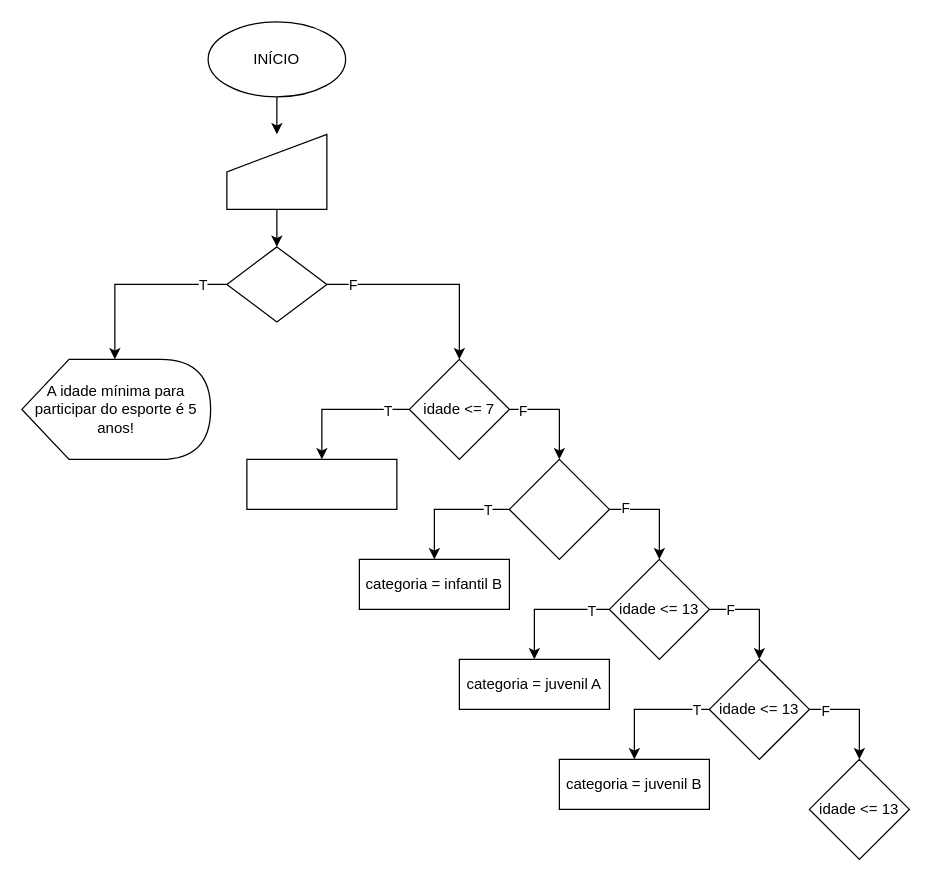
This 931x881 diagram has some shape labels left out. The shapes that lost their labels are listed below. From the top down, each one's centre as x and y in pixels, then its label:
(x=276, y=171): idade
(x=276, y=284): idade < 5
(x=321, y=483): categoria = infantil A
(x=558, y=508): idade <= 10
